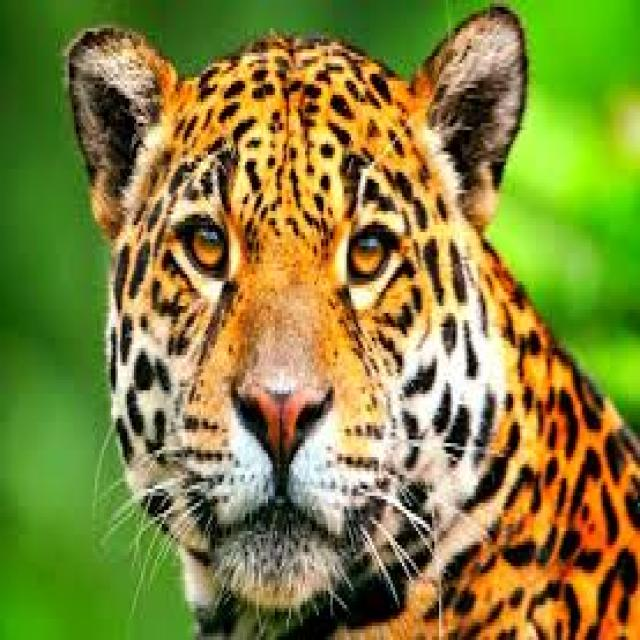Jaguar: (83, 31, 617, 630)
